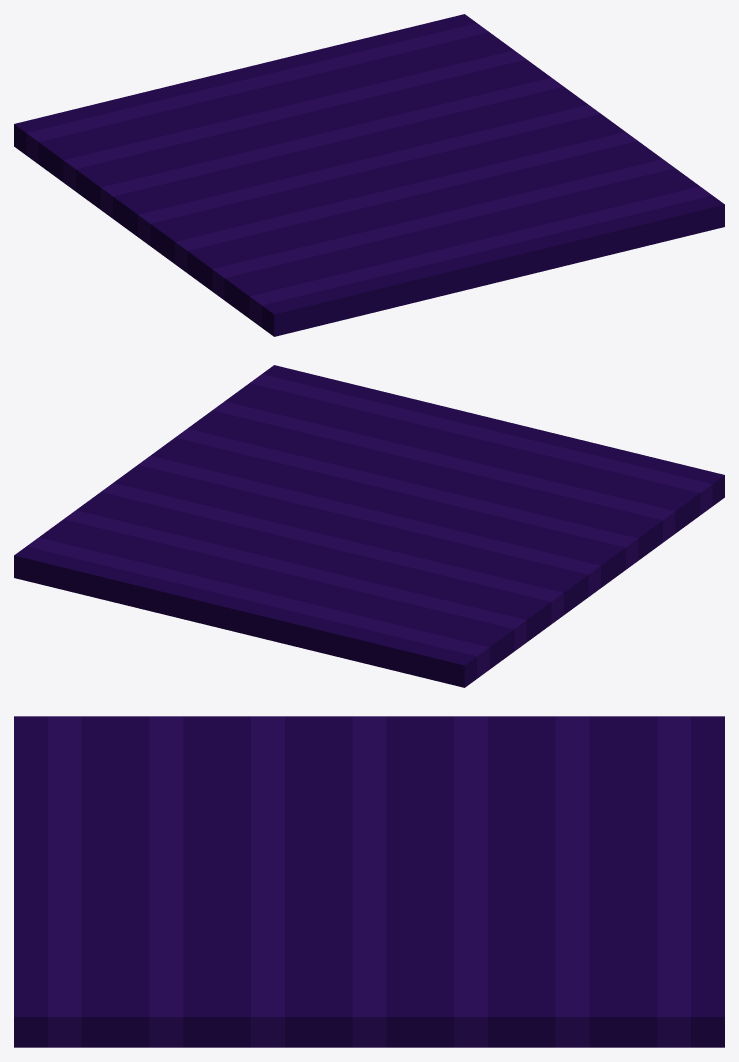
Rendered from floor_carpet.gltf.
3 renders of one model, top to bottom at view 1: azimuth 30°, elevation 25°; view 2: azimuth 150°, elevation 25°; view 3: azimuth 270°, elevation 25°, orthographic. The views are drawn at different scales.
Visible parts, largest first — view 1: Layer.1; view 2: Layer.1; view 3: Layer.1.
Boxes of the visible parts, box(x1,y1,x2,y2) form: Layer.1: box(14, 14, 724, 336); Layer.1: box(14, 365, 724, 687); Layer.1: box(14, 716, 724, 1047).
Bounding box in the file's own units: 21 × 1 × 21.
